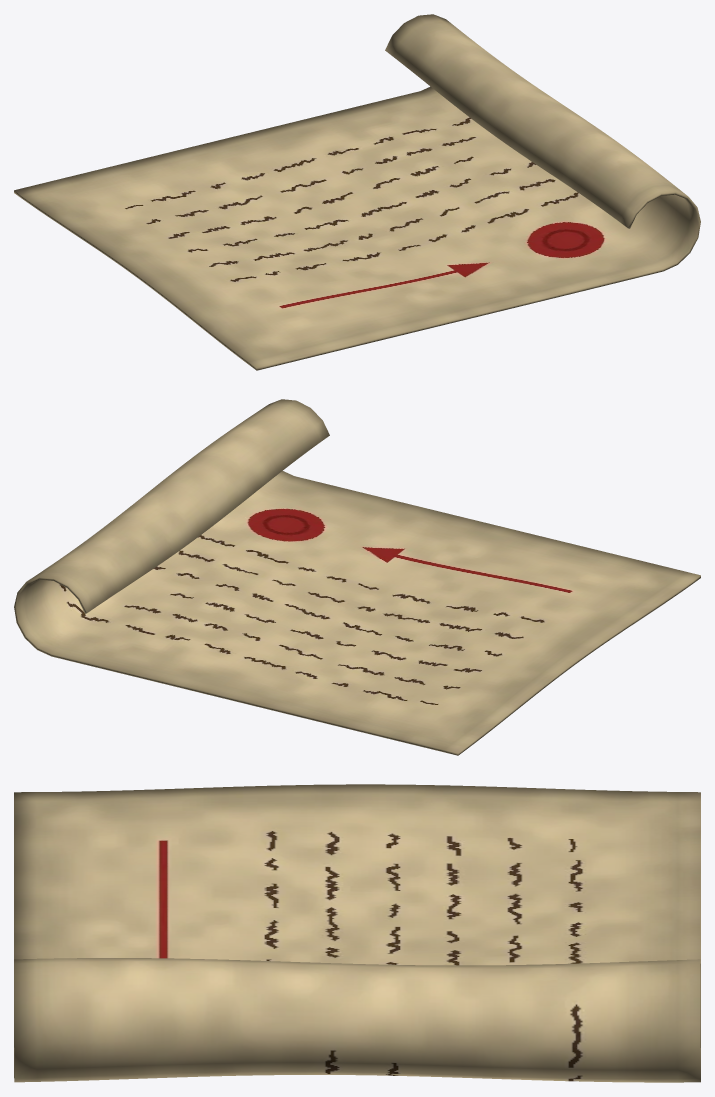
File: hinweispergament.glb
3 renders of one model, top to bottom at view 1: azimuth 30°, elevation 25°; view 2: azimuth 150°, elevation 25°; view 3: azimuth 270°, elevation 25°, orthographic. The views are drawn at different scales.
Visible parts, largest first — view 1: blatt; view 2: blatt; view 3: blatt.
Boxes of the visible parts, x1=… form: blatt: x1=14, y1=14, x2=700, y2=370; blatt: x1=14, y1=399, x2=700, y2=755; blatt: x1=14, y1=784, x2=700, y2=1082.
Bounding box in the file's own units: 0.2536 × 0.0468 × 0.2401.
1 material, 1 textured.
